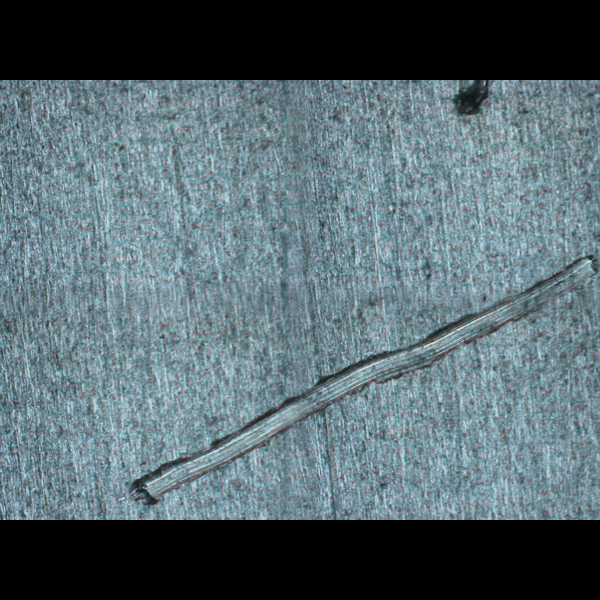d: (123, 250, 599, 507)
